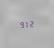nine: (18, 20, 22, 28)
one: (24, 20, 28, 27)
two: (29, 19, 33, 27)
